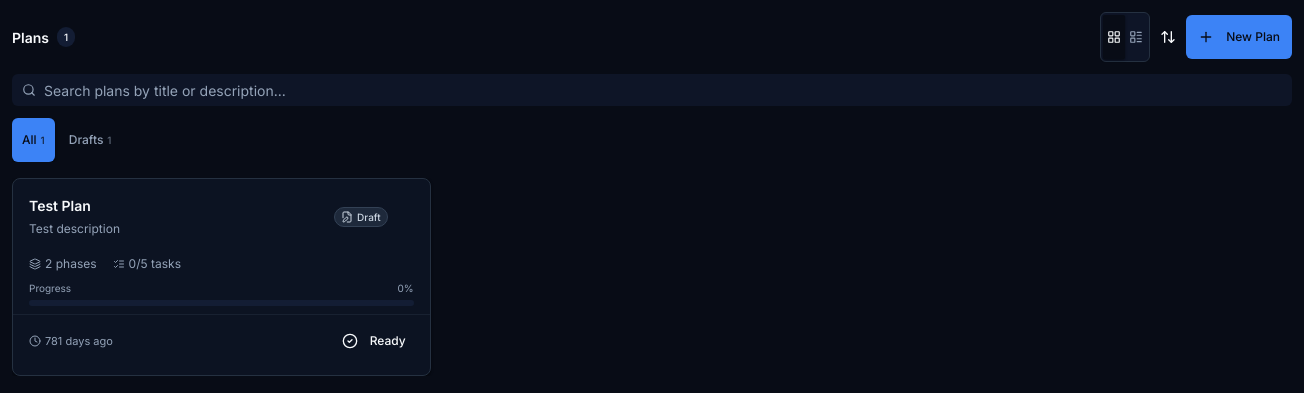
Test: PlanList › should clear filters when "Clear filters" is clicked
Type "nonexistent" into the field with placeholder "Search plans by title or description..." at (652,90), box x1=12 y1=74 x2=1292 y2=106
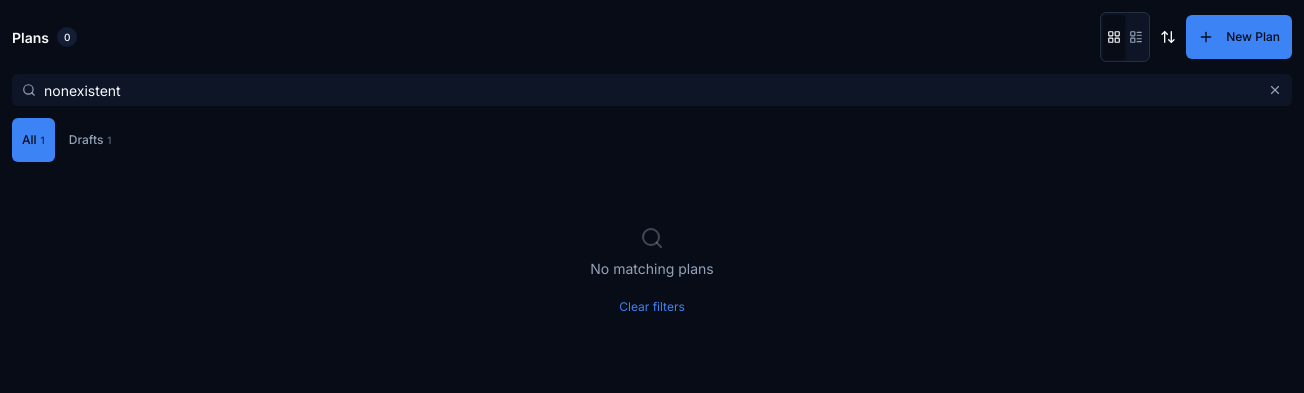
Click the button "Clear filters" at (652,307), box x1=619 y1=285 x2=685 y2=329
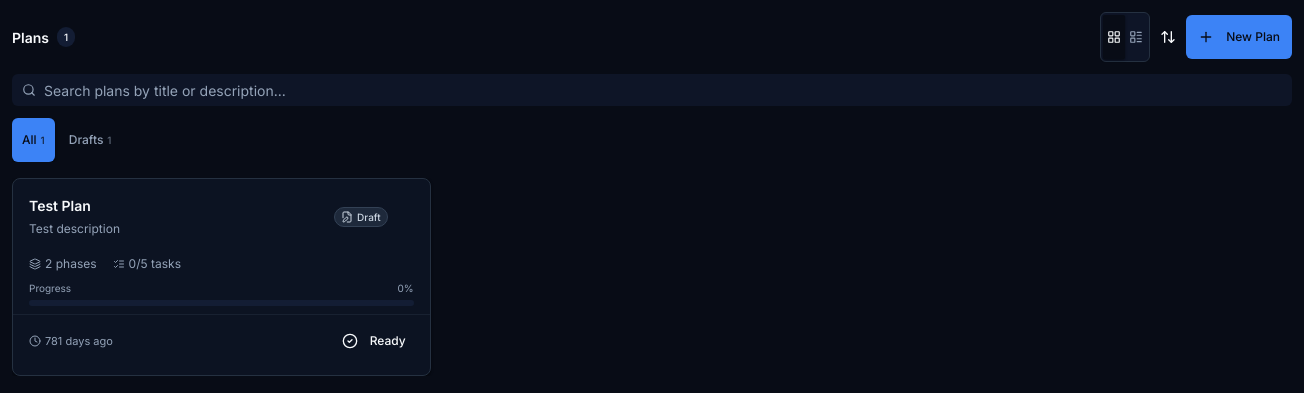
Expected: the heading "Test Plan" is shown, x1=29 y1=197 x2=91 y2=214
